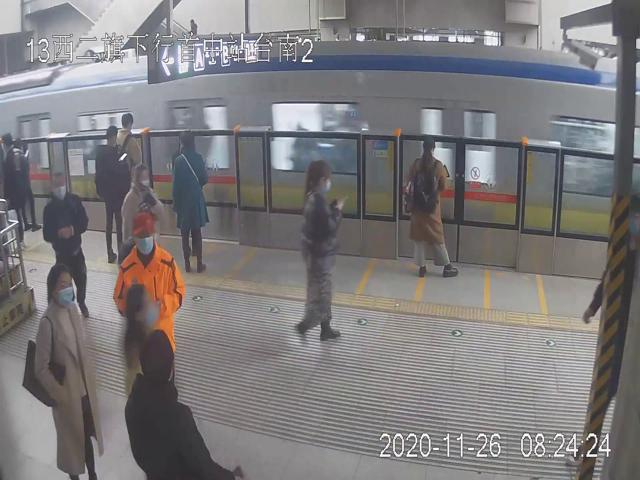person: (34, 262, 104, 480), (297, 159, 344, 345), (406, 136, 462, 278), (43, 172, 92, 320), (171, 135, 210, 273), (94, 124, 126, 268)
